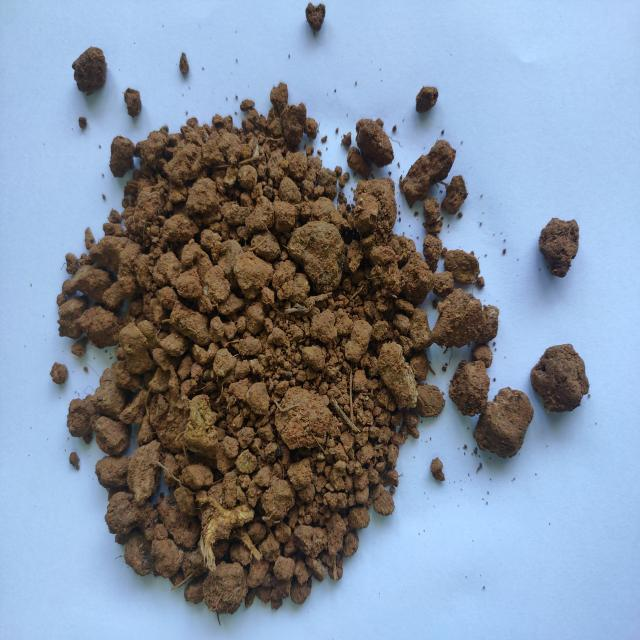soil: (120, 189, 364, 516)
